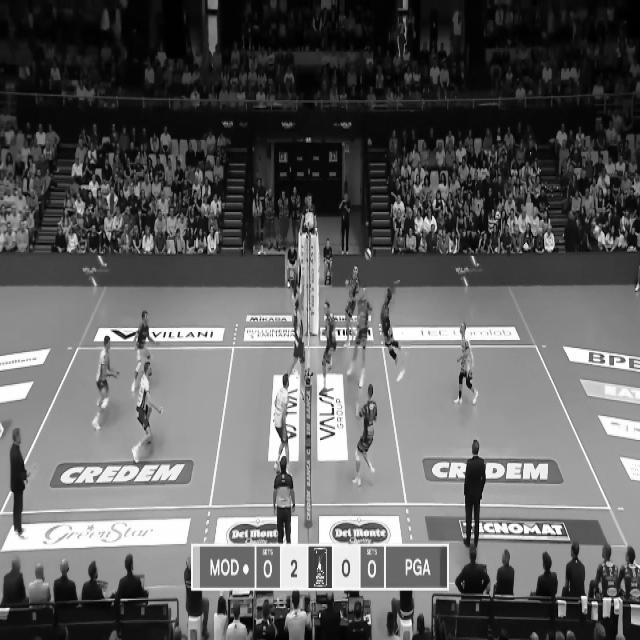volleyball court: (2, 341, 613, 511)
